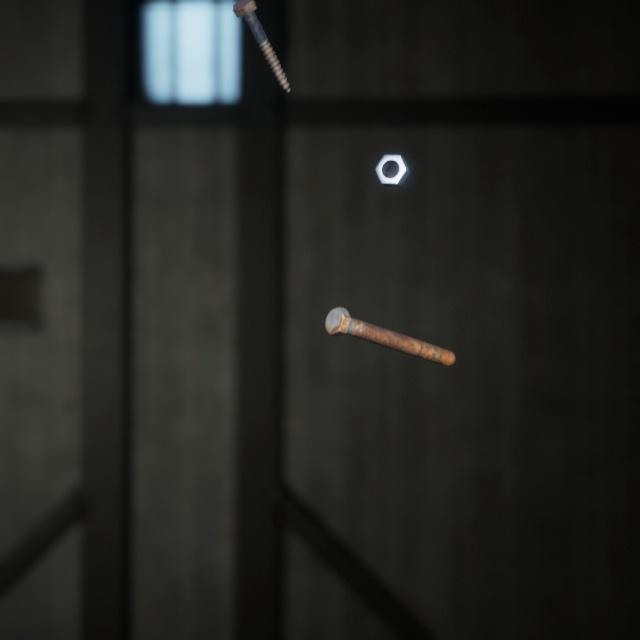bolt: (320, 284, 460, 354), (229, 0, 295, 87)
nut: (370, 136, 415, 178)
